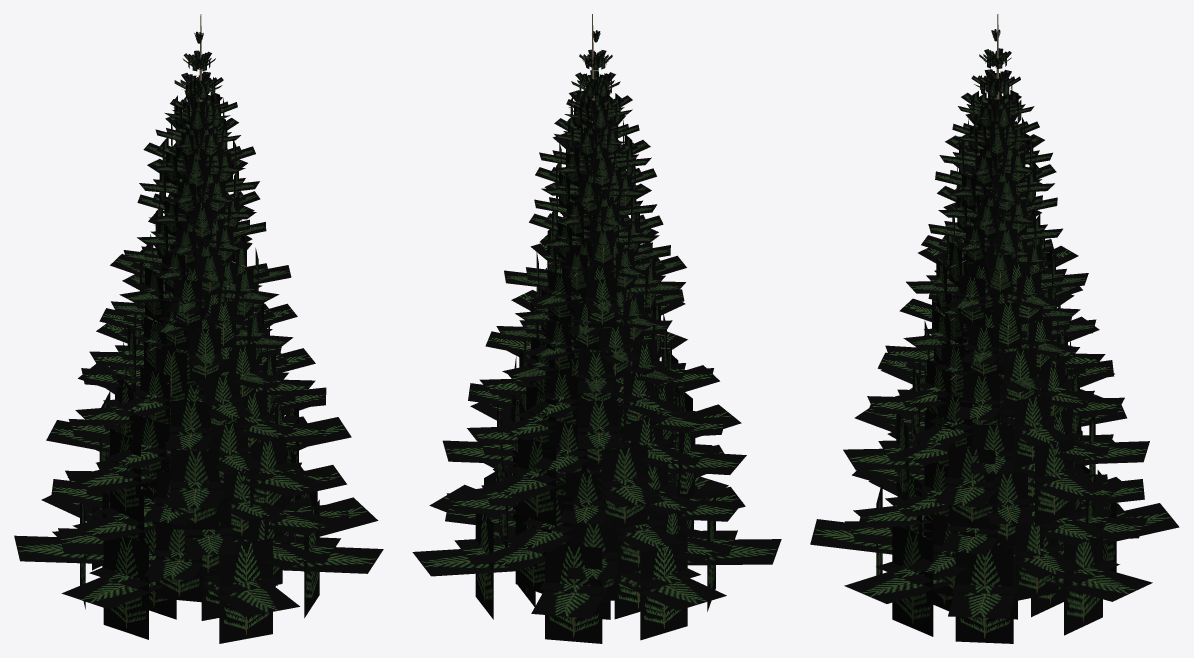
File: Larch_1_LOD0.glb
3 views of the same model, side by side, from view 1: azimuth 30°, elevation 25°; view 2: azimuth 150°, elevation 25°; view 3: azimuth 270°, elevation 25° (orthographic).
Parts seen in each view (by area): view 1: Larch_1_LOD0; view 2: Larch_1_LOD0; view 3: Larch_1_LOD0.
Part boxes in pixels (x1,y1,x2,y2): Larch_1_LOD0: (14,14,383,643); Larch_1_LOD0: (412,14,781,643); Larch_1_LOD0: (810,14,1179,643).
Bounding box in the file's own units: 12.43 × 21.63 × 12.48.
Materials: 2 (1 with a texture image).
